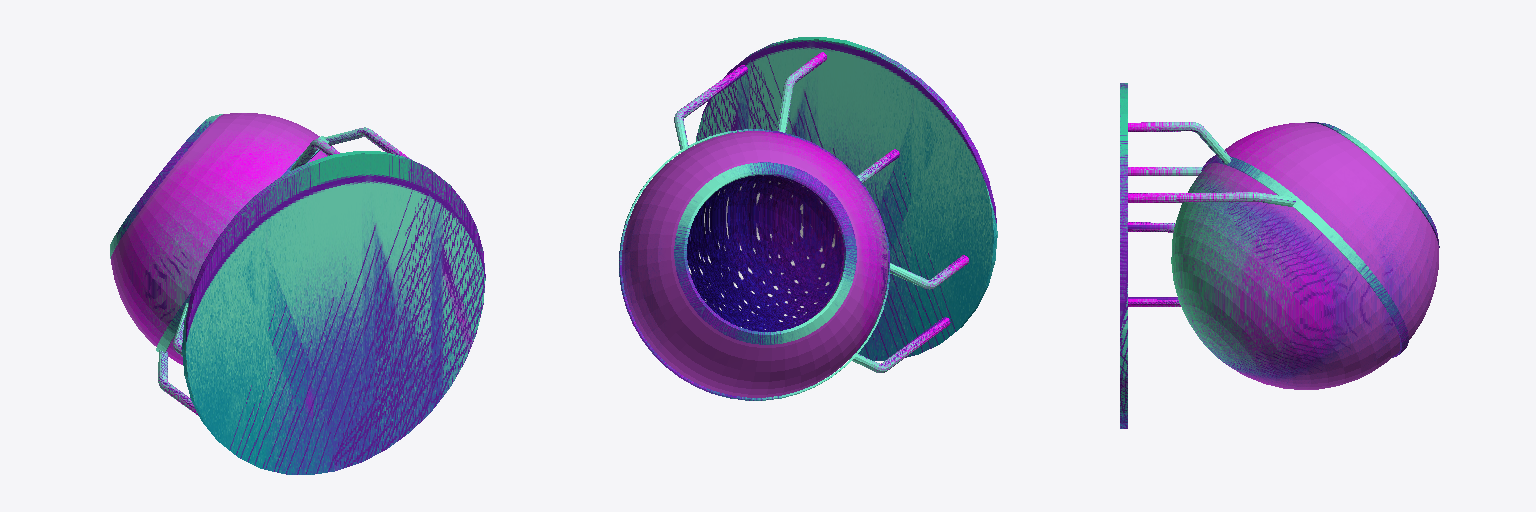
3 views of the same model, side by side, from view 1: azimuth 30°, elevation 25°; view 2: azimuth 150°, elevation 25°; view 3: azimuth 270°, elevation 25° (orthographic).
Visible parts, largest first — view 1: TANK; view 2: TANK; view 3: TANK.
Boxes of the visible parts, x1=… form: TANK: x1=110, y1=113, x2=485, y2=474; TANK: x1=619, y1=37, x2=997, y2=400; TANK: x1=1120, y1=83, x2=1439, y2=428.
Bounding box in the file's own units: 0.795 × 0.795 × 0.7321.
Materials: 1 (1 with a texture image).